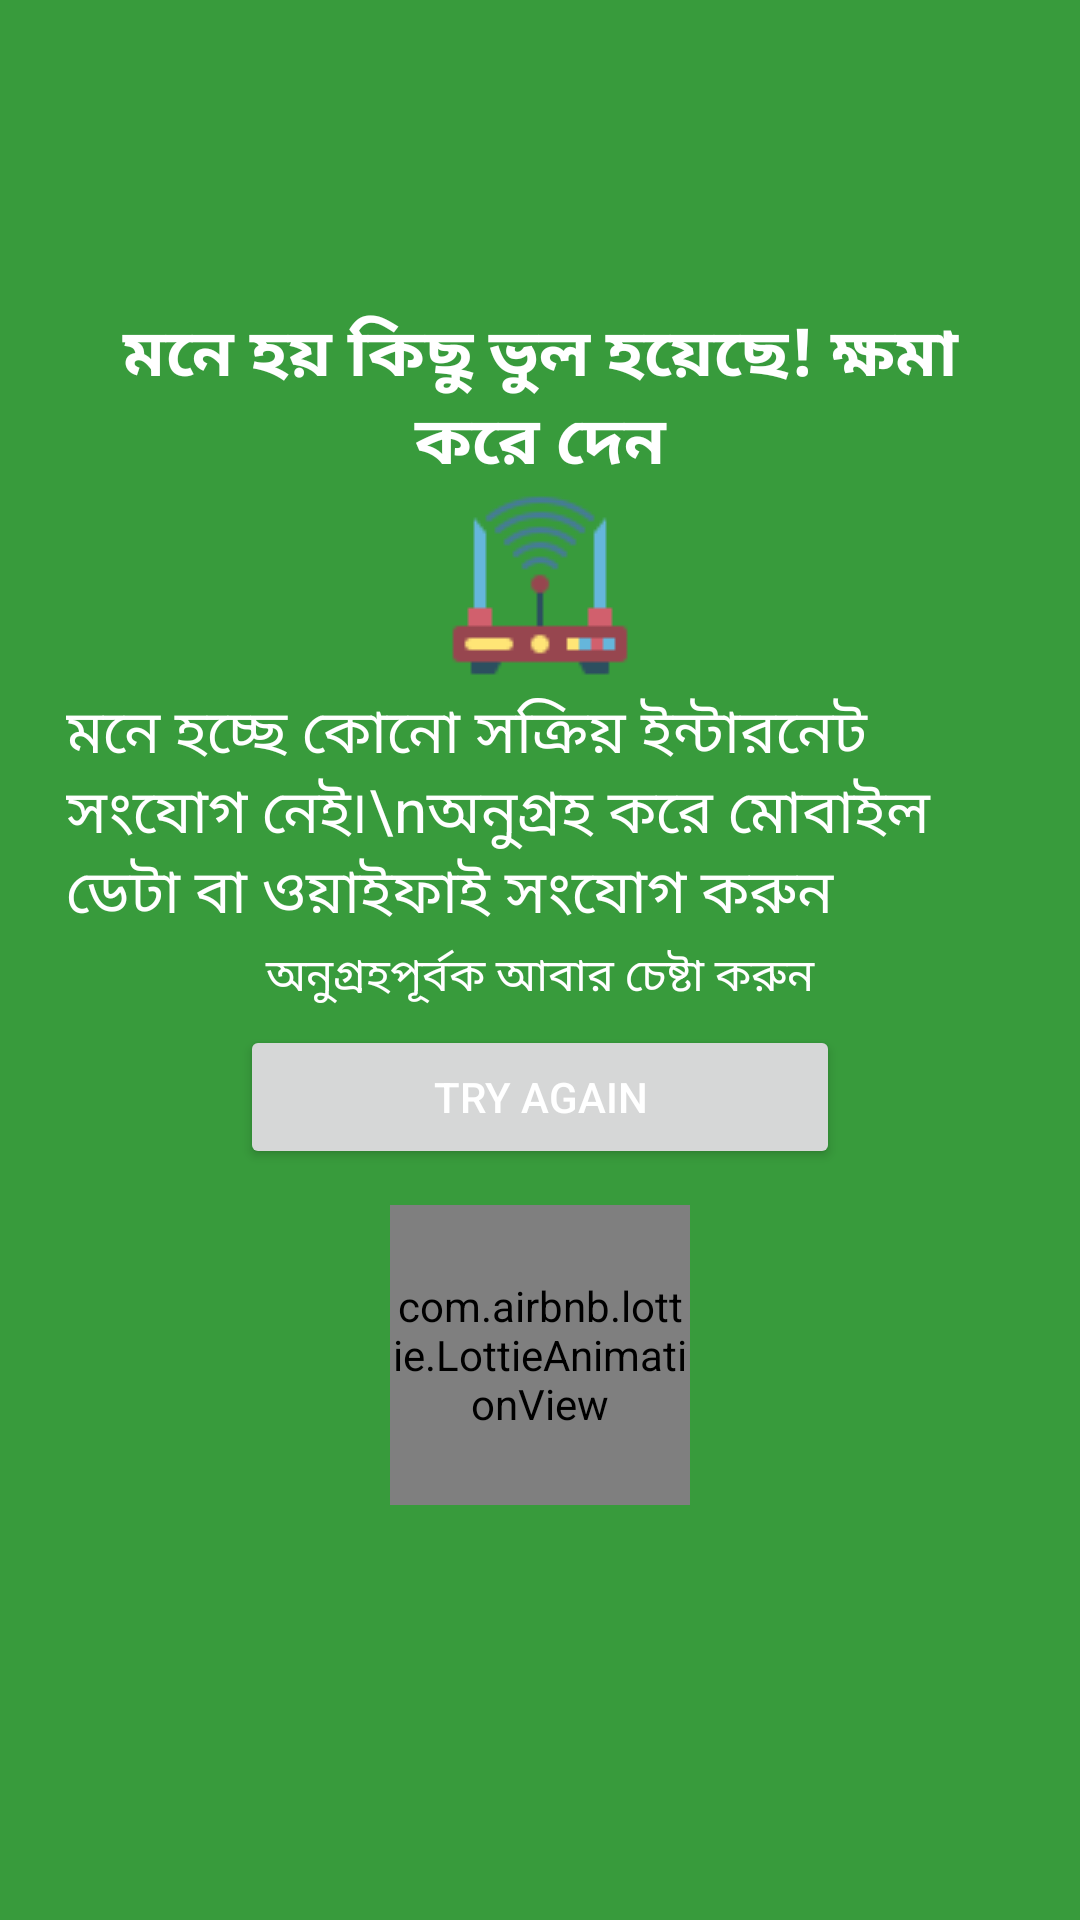

Where to tap for icons on this 1080px x 1920px app screen, as (x,y):
wifi: (540,585)
